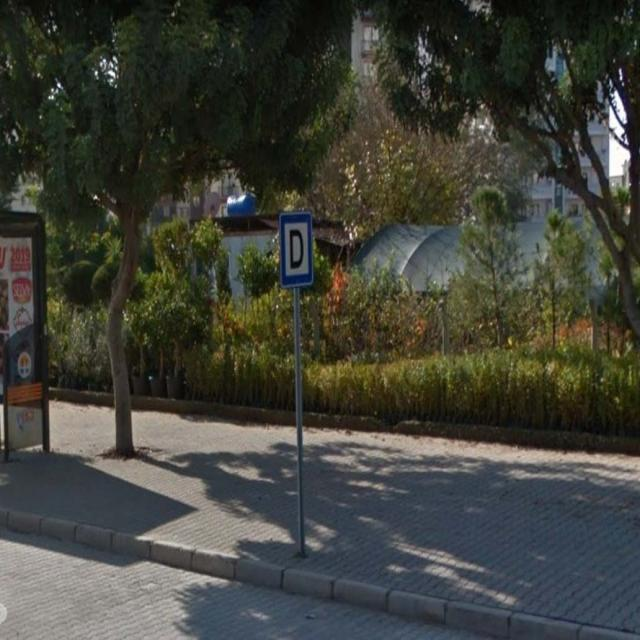durak: (279, 212, 314, 288)
